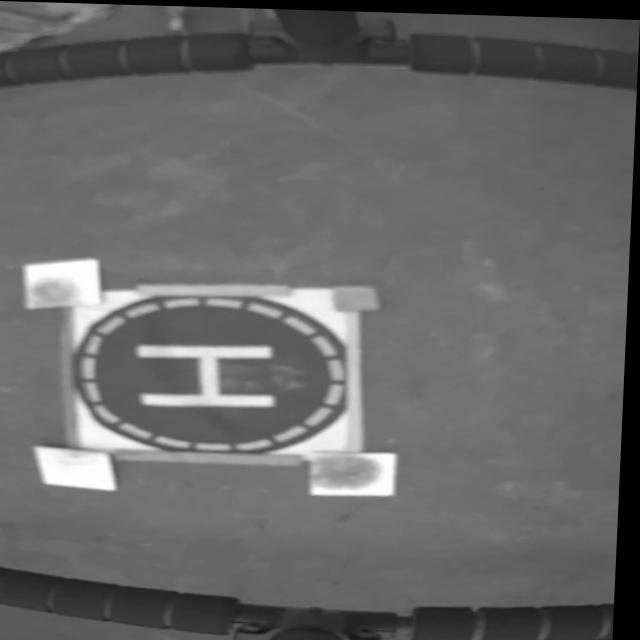Helipad: (136, 342, 281, 405)
